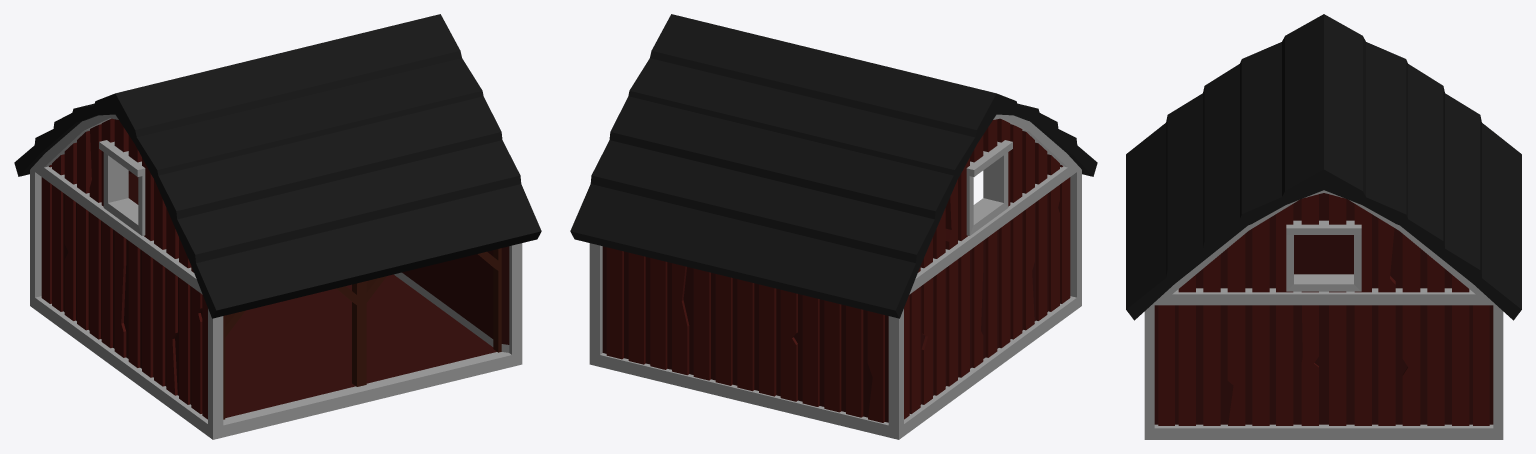
Rendered from OpenBarn.obj.
3 renders of one model, left to right at view 1: azimuth 30°, elevation 25°; view 2: azimuth 150°, elevation 25°; view 3: azimuth 270°, elevation 25°, orthographic. The views are drawn at different scales.
Parts seen in each view (by area): view 1: OpenBarn; view 2: OpenBarn; view 3: OpenBarn.
Boxes of the visible parts, bbox=[...] form: OpenBarn: bbox=[14, 14, 541, 439]; OpenBarn: bbox=[570, 14, 1097, 439]; OpenBarn: bbox=[1126, 14, 1521, 439].
Bounding box in the file's own units: 5.74 × 4.74 × 6.18.
